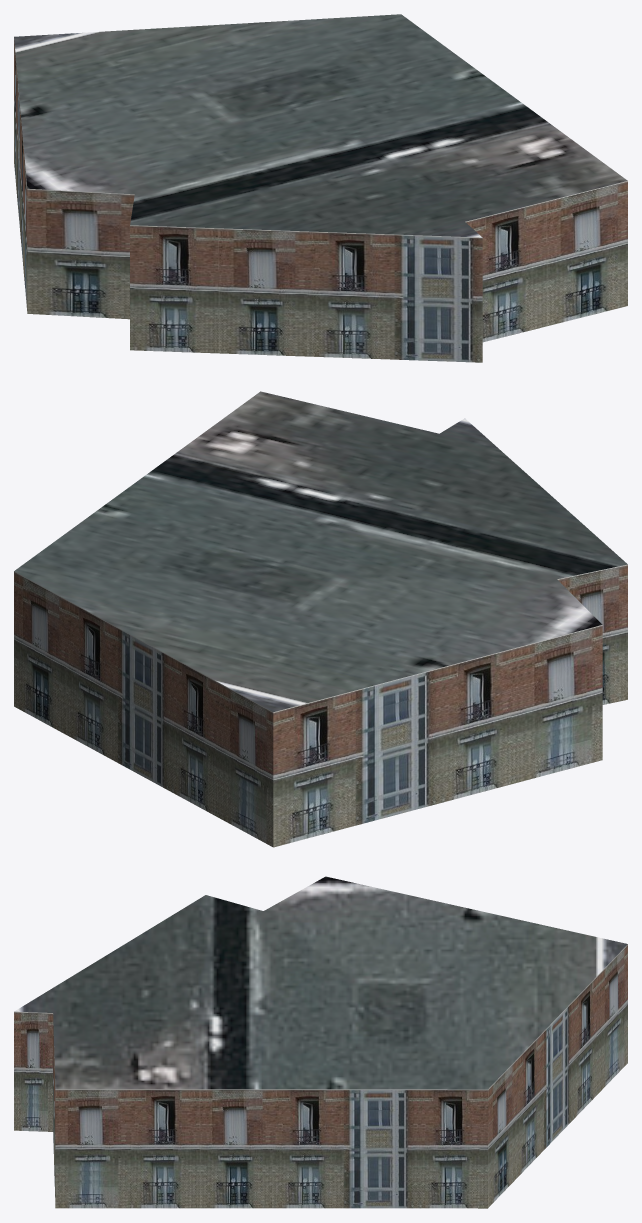
File: RelTex__7.fbx
The picture shows the model from 3 angles, top to bottom: view 1: azimuth 30°, elevation 25°; view 2: azimuth 150°, elevation 25°; view 3: azimuth 270°, elevation 25°; orthographic projection. The views are drawn at different scales.
Parts seen in each view (by area): view 1: CityEngineMaterial_13_m, CityEngineMaterial_9_m; view 2: CityEngineMaterial_13_m, CityEngineMaterial_9_m; view 3: CityEngineMaterial_13_m, CityEngineMaterial_9_m.
Boxes of the visible parts, box(x1,y1,x2,y2) form: CityEngineMaterial_13_m: box(14, 14, 627, 237); CityEngineMaterial_9_m: box(14, 39, 627, 362); CityEngineMaterial_13_m: box(14, 391, 627, 712); CityEngineMaterial_9_m: box(14, 564, 627, 847); CityEngineMaterial_13_m: box(14, 876, 627, 1089); CityEngineMaterial_9_m: box(14, 944, 627, 1208).
Bounding box in the file's own units: 23.04 × 6 × 28.06.
2 materials, 2 textured.
